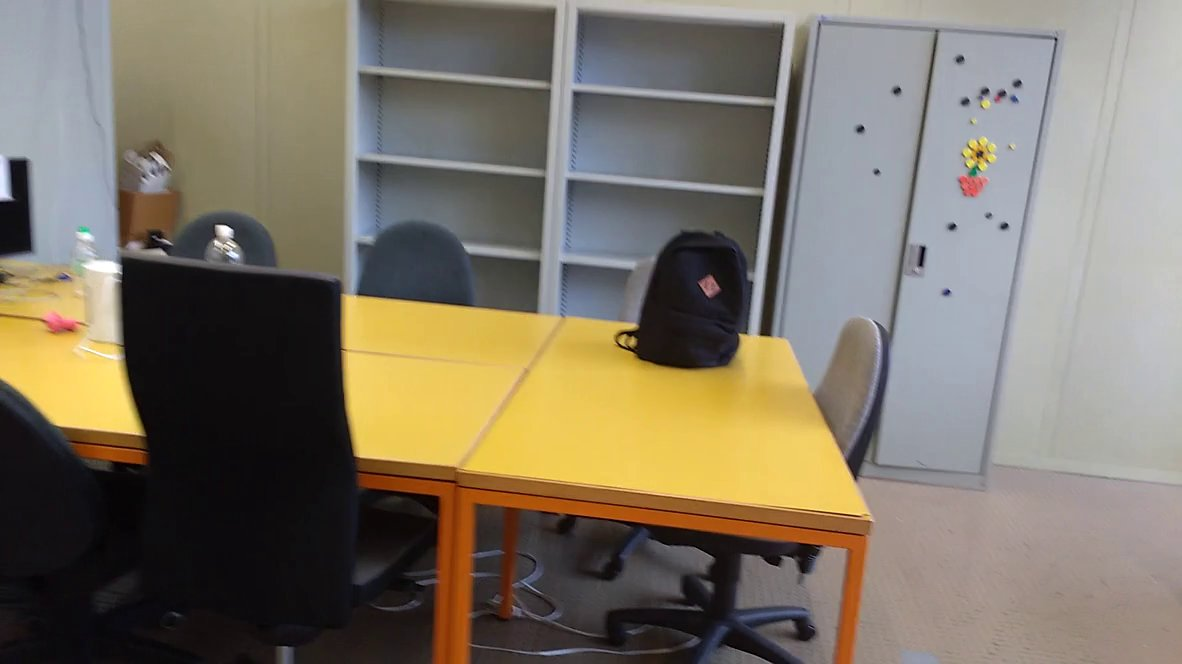bag: (609, 215, 754, 373)
chair: (106, 228, 446, 664), (793, 290, 909, 558), (355, 210, 509, 339)
